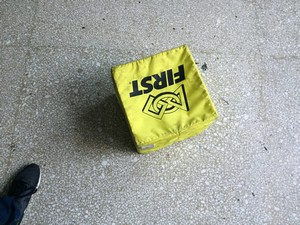cube: (111, 48, 218, 156)
